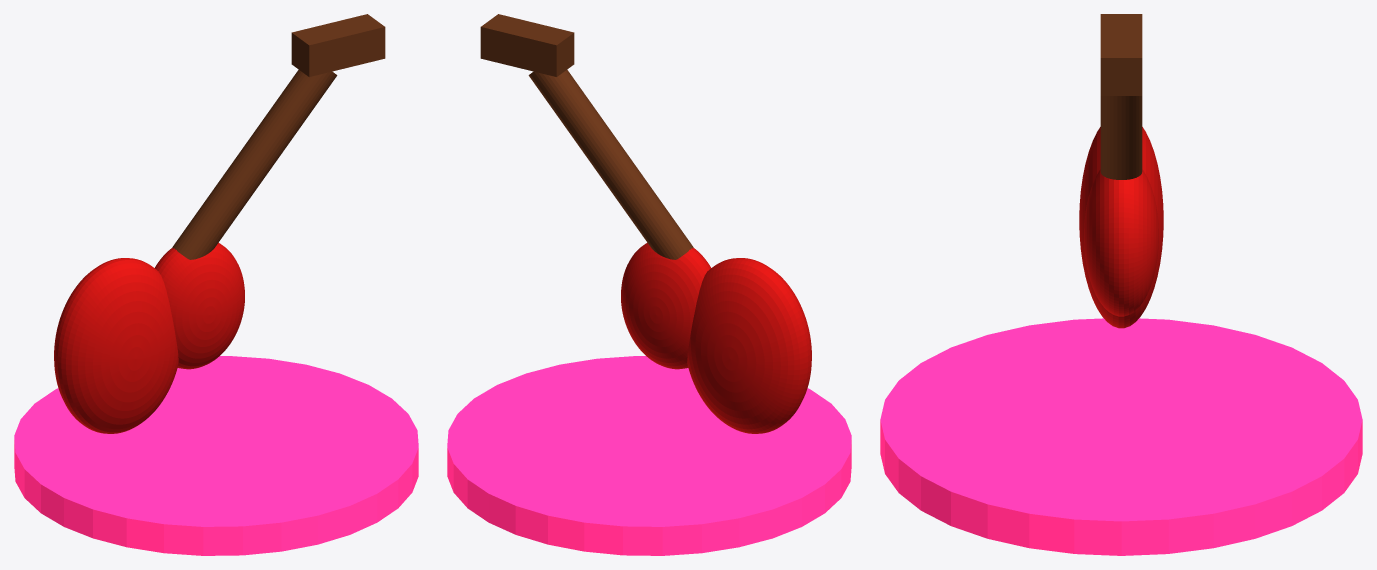
Rendered from music_electric_guitar.dae.
The picture shows the model from 3 angles, left to right: view 1: azimuth 30°, elevation 25°; view 2: azimuth 150°, elevation 25°; view 3: azimuth 270°, elevation 25°; orthographic projection. The views are drawn at different scales.
Visible parts, largest first — view 1: 07_04_Popular_Music_Electric_Guitar_ROOT_base, 07_04_Popular_Music_Electric_Guitar_part_01, 07_04_Popular_Music_Electric_Guitar_part_03, 07_04_Popular_Music_Electric_Guitar_part_02, 07_04_Popular_Music_Electric_Guitar_part_04; view 2: 07_04_Popular_Music_Electric_Guitar_ROOT_base, 07_04_Popular_Music_Electric_Guitar_part_01, 07_04_Popular_Music_Electric_Guitar_part_03, 07_04_Popular_Music_Electric_Guitar_part_02, 07_04_Popular_Music_Electric_Guitar_part_04; view 3: 07_04_Popular_Music_Electric_Guitar_ROOT_base, 07_04_Popular_Music_Electric_Guitar_part_02, 07_04_Popular_Music_Electric_Guitar_part_03, 07_04_Popular_Music_Electric_Guitar_part_04, 07_04_Popular_Music_Electric_Guitar_part_01.
Part boxes in pixels (<box>): 07_04_Popular_Music_Electric_Guitar_ROOT_base: <box>14,356,418,555</box>; 07_04_Popular_Music_Electric_Guitar_part_01: <box>54,258,178,433</box>; 07_04_Popular_Music_Electric_Guitar_part_03: <box>172,69,337,259</box>; 07_04_Popular_Music_Electric_Guitar_part_02: <box>155,242,244,369</box>; 07_04_Popular_Music_Electric_Guitar_part_04: <box>291,14,385,76</box>; 07_04_Popular_Music_Electric_Guitar_ROOT_base: <box>447,356,851,555</box>; 07_04_Popular_Music_Electric_Guitar_part_01: <box>687,258,811,433</box>; 07_04_Popular_Music_Electric_Guitar_part_03: <box>528,69,693,259</box>; 07_04_Popular_Music_Electric_Guitar_part_02: <box>621,242,710,369</box>; 07_04_Popular_Music_Electric_Guitar_part_04: <box>480,14,574,76</box>; 07_04_Popular_Music_Electric_Guitar_ROOT_base: <box>880,318,1362,555</box>; 07_04_Popular_Music_Electric_Guitar_part_02: <box>1084,169,1158,316</box>; 07_04_Popular_Music_Electric_Guitar_part_03: <box>1100,96,1142,179</box>; 07_04_Popular_Music_Electric_Guitar_part_04: <box>1100,14,1142,95</box>; 07_04_Popular_Music_Electric_Guitar_part_01: <box>1079,127,1163,328</box>.
Size of the model in its own units: 0.76 by 0.85 by 0.76.
